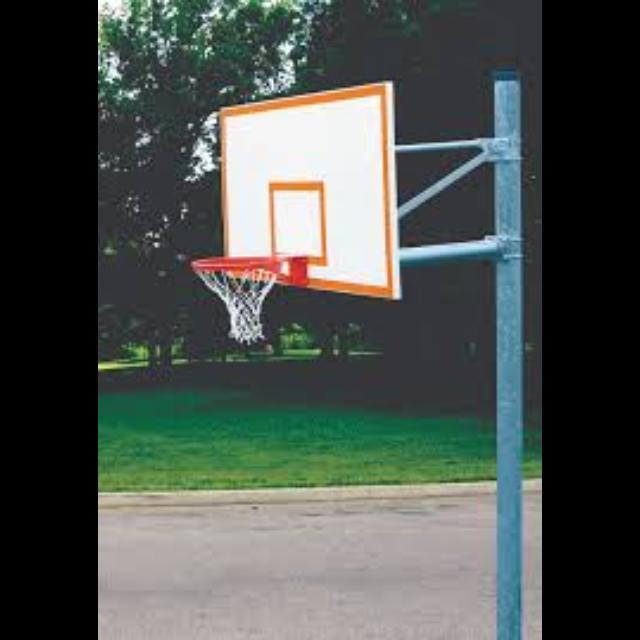rim: (194, 256, 278, 340)
